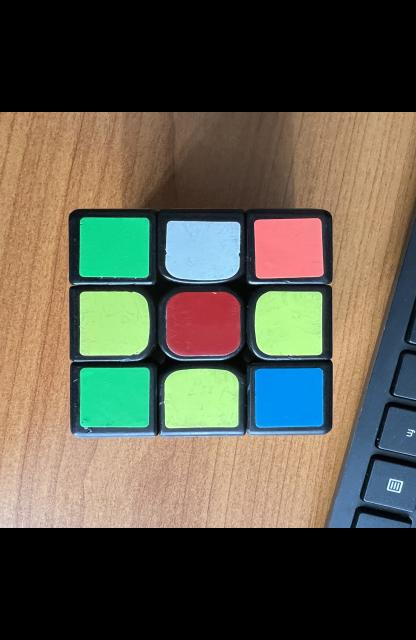Blue: (254, 368, 323, 427)
Green: (78, 217, 149, 278), (79, 368, 149, 427)
Orange: (253, 218, 323, 279)
Red: (166, 292, 240, 357)
White: (164, 220, 239, 281)
Yellow: (78, 291, 149, 356), (253, 291, 322, 356), (163, 369, 238, 428)
